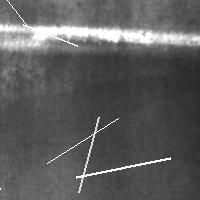scratches: (1, 22, 199, 50), (42, 113, 123, 168), (71, 153, 175, 182), (74, 112, 104, 197), (18, 20, 82, 51), (0, 0, 33, 32), (0, 125, 5, 194)
